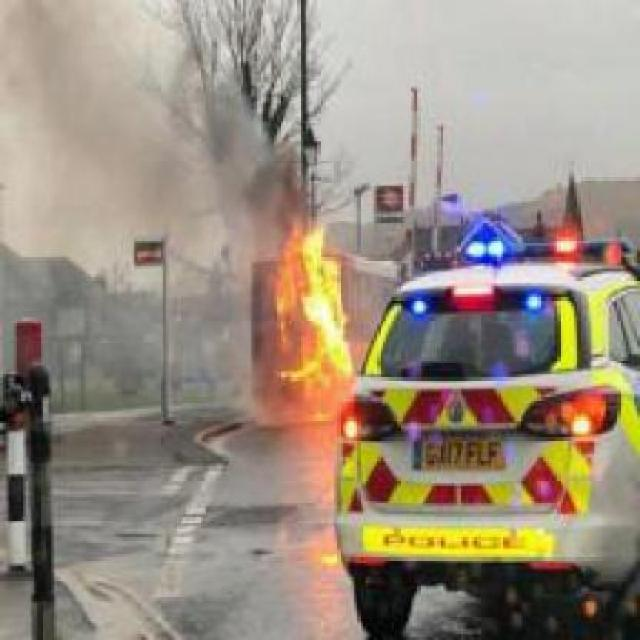Fire: (268, 198, 359, 422)
Smoke: (0, 0, 268, 366)
